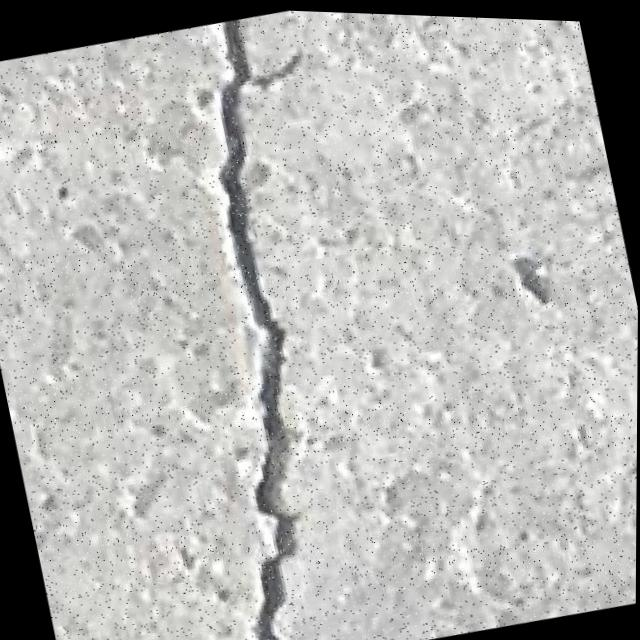Crack: (94, 3, 418, 640)
